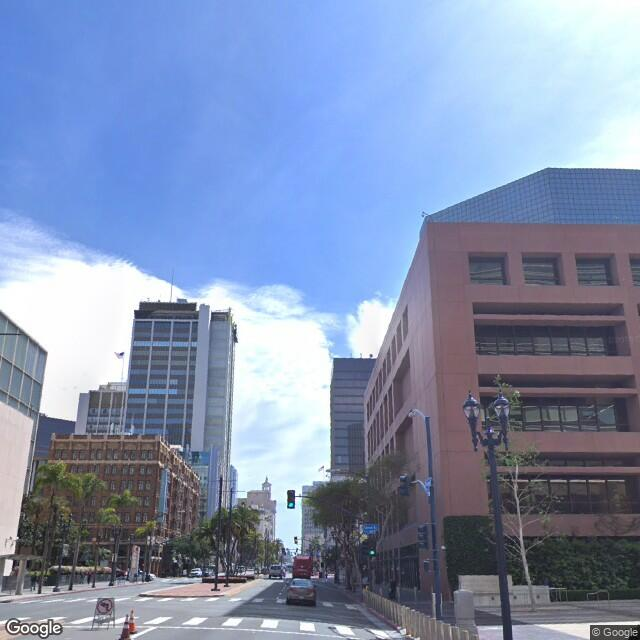light: (493, 392, 511, 423), (462, 399, 480, 422)
window: (469, 253, 507, 284), (555, 393, 586, 430), (586, 477, 610, 508), (551, 330, 573, 355)
